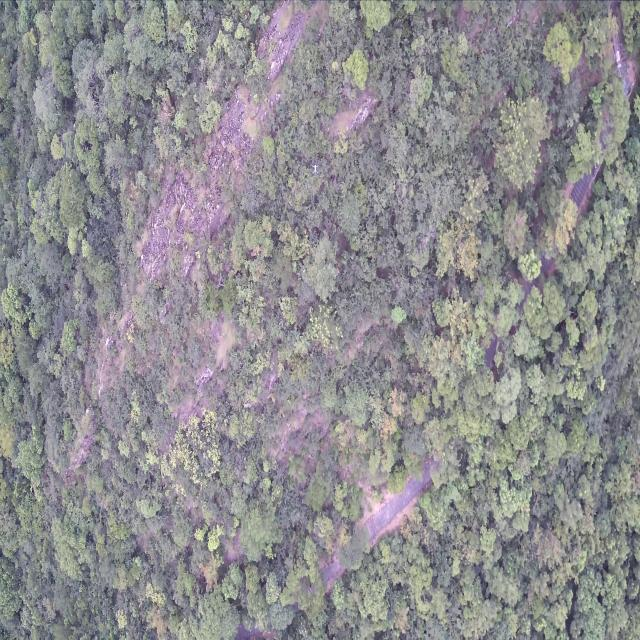UAV: (312, 164, 318, 173)
